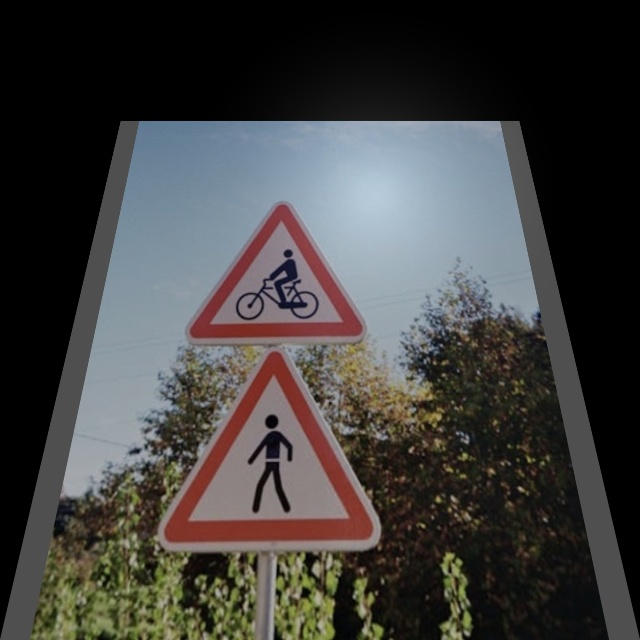Cycle_Crossing: (180, 199, 367, 347)
